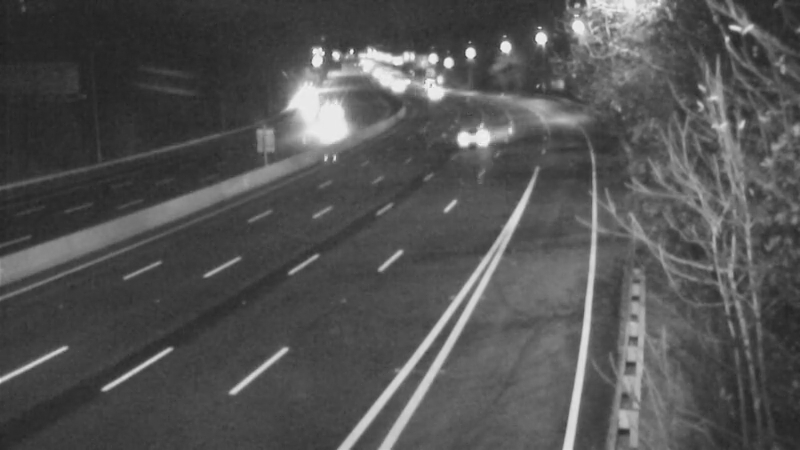vehicle: (402, 56, 452, 106), (409, 69, 459, 119), (450, 107, 500, 157), (306, 98, 356, 148)
